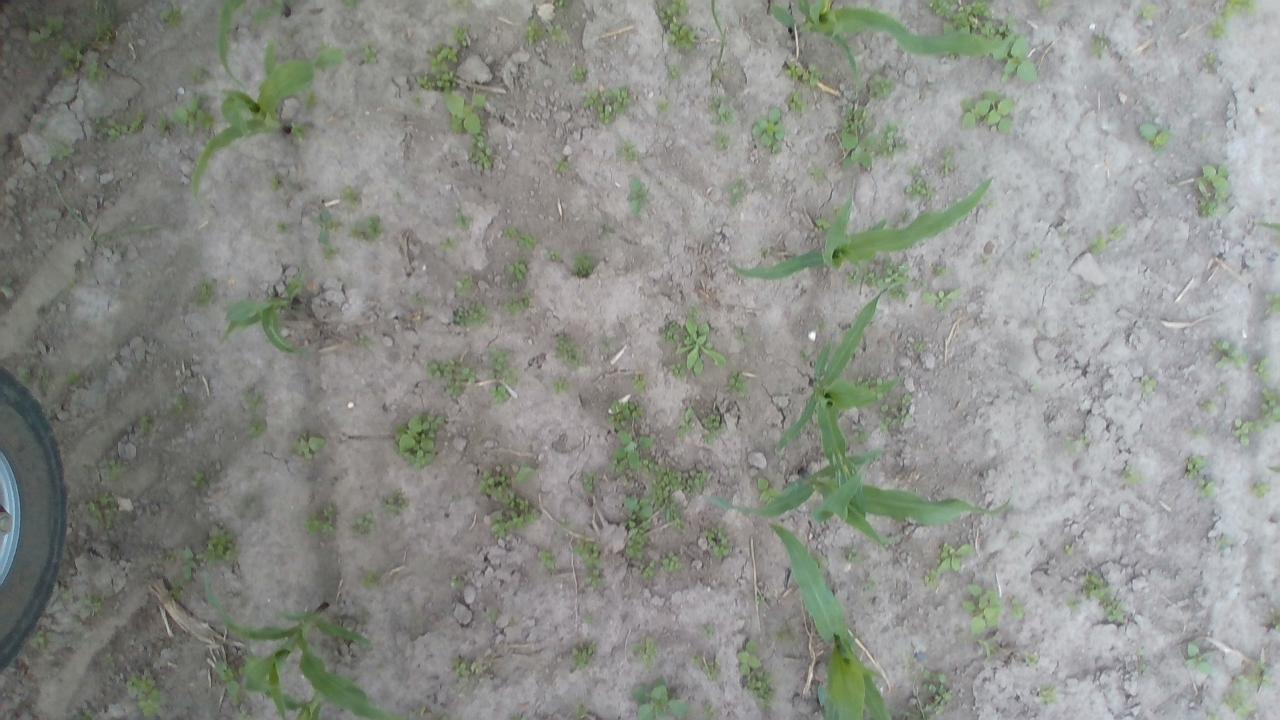Maize: (708, 446, 1012, 548), (729, 173, 994, 286), (206, 587, 412, 720), (767, 287, 911, 477), (762, 518, 896, 720), (186, 43, 350, 206), (767, 0, 1016, 72), (226, 266, 320, 369), (213, 0, 306, 90)
Weeds: (473, 461, 551, 539), (662, 314, 728, 378), (646, 462, 708, 528), (388, 411, 450, 474), (932, 0, 1021, 38), (436, 86, 496, 138), (956, 92, 1020, 140), (632, 679, 704, 720), (841, 103, 880, 177), (736, 642, 778, 710), (154, 97, 218, 141), (652, 0, 704, 53), (1190, 160, 1232, 224), (985, 39, 1041, 87), (618, 490, 656, 560), (849, 262, 912, 304), (962, 582, 1007, 635), (1206, 0, 1262, 42), (583, 84, 634, 128), (572, 542, 615, 593), (608, 432, 660, 474), (93, 112, 152, 148), (464, 132, 508, 180), (425, 362, 477, 400), (240, 382, 272, 443), (127, 670, 167, 718), (902, 164, 943, 210), (202, 524, 245, 566), (489, 347, 521, 403), (752, 104, 786, 155), (877, 394, 919, 434), (304, 502, 343, 544), (924, 667, 956, 716), (622, 172, 656, 218), (608, 396, 649, 434), (552, 334, 589, 376), (876, 118, 910, 163), (1254, 380, 1280, 438), (172, 541, 206, 584), (936, 542, 976, 578), (1135, 120, 1177, 154), (25, 9, 64, 45), (432, 40, 464, 82), (83, 0, 118, 38), (446, 652, 487, 684), (1208, 336, 1246, 370), (1234, 664, 1276, 694), (82, 496, 119, 530), (449, 302, 493, 330), (352, 215, 389, 248), (408, 289, 445, 321), (503, 258, 533, 295), (414, 68, 464, 90), (1222, 688, 1256, 720), (290, 429, 324, 461), (722, 368, 752, 404), (702, 526, 732, 562), (1080, 568, 1112, 601), (709, 93, 740, 127), (920, 285, 960, 311), (1184, 642, 1216, 674), (568, 644, 600, 676), (699, 412, 730, 445), (212, 663, 242, 697), (312, 208, 338, 247), (44, 138, 83, 164), (194, 276, 222, 312), (152, 0, 185, 30), (380, 490, 410, 523), (472, 603, 506, 632), (1012, 646, 1051, 671), (672, 403, 698, 440), (692, 654, 724, 684), (531, 546, 562, 576), (900, 697, 940, 720), (723, 174, 750, 207), (572, 253, 600, 284), (786, 64, 822, 88), (32, 360, 53, 401), (524, 7, 546, 46), (351, 507, 376, 541), (806, 161, 835, 190), (783, 90, 812, 119), (1082, 28, 1106, 63), (0, 268, 21, 308), (634, 642, 662, 672), (360, 566, 390, 594), (453, 19, 478, 52), (167, 388, 195, 417), (61, 36, 87, 67), (868, 74, 901, 98), (580, 469, 604, 502), (504, 291, 532, 319), (338, 185, 366, 212), (352, 41, 381, 67), (80, 592, 109, 618), (1180, 448, 1204, 479), (1232, 414, 1256, 445), (638, 556, 664, 584), (544, 15, 570, 43), (1061, 435, 1093, 457), (754, 477, 780, 504), (81, 56, 108, 82), (862, 574, 885, 604), (1100, 221, 1130, 244), (126, 413, 156, 436), (350, 332, 378, 356), (1198, 476, 1224, 501), (105, 456, 132, 480), (454, 274, 482, 297), (619, 140, 642, 168), (663, 549, 686, 577), (1249, 351, 1271, 380), (1019, 244, 1048, 266), (1103, 597, 1129, 621), (548, 154, 574, 178), (448, 572, 472, 598), (63, 364, 86, 391), (936, 148, 958, 176), (1120, 467, 1146, 489), (568, 65, 594, 87), (626, 372, 652, 394), (432, 234, 463, 252), (516, 234, 542, 255), (974, 634, 992, 664), (698, 620, 722, 642), (552, 377, 576, 399), (733, 324, 755, 348), (1198, 48, 1220, 72), (1138, 2, 1162, 24), (749, 590, 772, 612), (1250, 478, 1272, 501), (1061, 540, 1082, 564), (1262, 289, 1280, 317), (31, 630, 52, 654), (596, 333, 616, 358), (1038, 684, 1060, 706), (711, 130, 733, 152), (842, 540, 859, 568), (16, 363, 35, 388), (450, 208, 472, 229), (190, 467, 210, 490), (1008, 595, 1024, 621), (1026, 376, 1046, 396), (556, 518, 576, 538), (1085, 236, 1106, 255), (666, 64, 685, 85), (654, 99, 675, 118), (545, 246, 566, 265), (1138, 378, 1162, 394), (501, 222, 520, 241), (930, 262, 950, 280), (922, 570, 942, 588), (1265, 614, 1280, 638), (1188, 424, 1208, 442), (574, 703, 594, 720), (272, 173, 288, 194), (320, 245, 338, 263), (274, 218, 291, 237), (1198, 398, 1219, 413), (292, 121, 306, 142), (101, 652, 118, 669), (548, 0, 574, 11), (912, 340, 928, 356), (1213, 379, 1231, 393), (61, 587, 79, 601), (1036, 0, 1052, 10)
